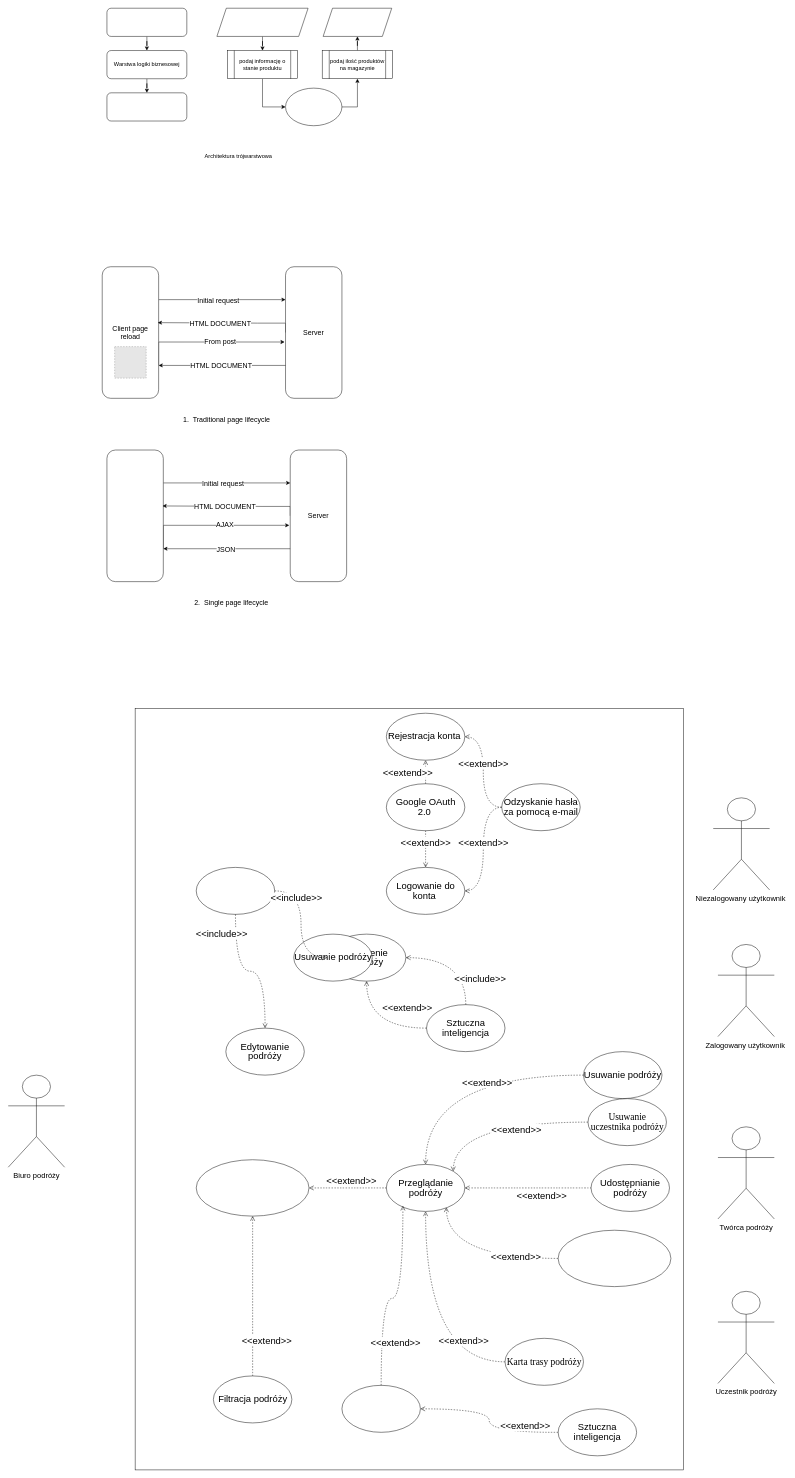
The diagram is 795 pixels wide and 1478 high, and some of its shapes have lost their labels. Grey dashed boxes stand in for pictures. The shapes that lost their labels are listed below. From the top down, each one's centre as x and y in pixels, then its label:
point (146, 22): Warstwa perezentacji
point (262, 22): > Stan porduktu sprzedany Sprzedany_
point (357, 22): > 10 sztuk_
point (146, 106): Warstwa danych
point (313, 107): Baza danych
point (134, 516): Client
point (235, 890): Pisownia Markdown
point (252, 1187): Lista planów podróży
point (614, 1258): Przyjmowanie lub odrzucanie dołączenia do podróży
point (380, 1408): Czat
